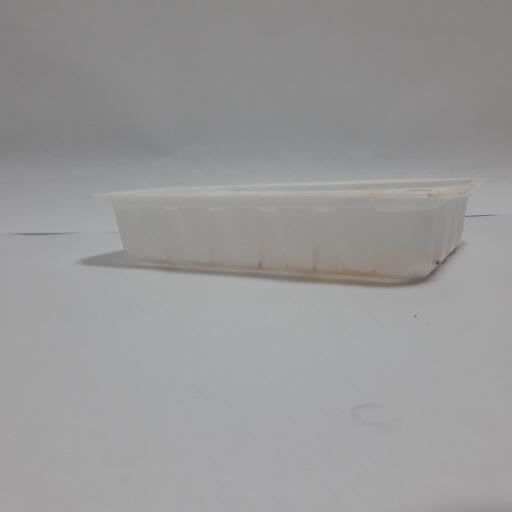Plastic_4: (90, 179, 474, 289)
